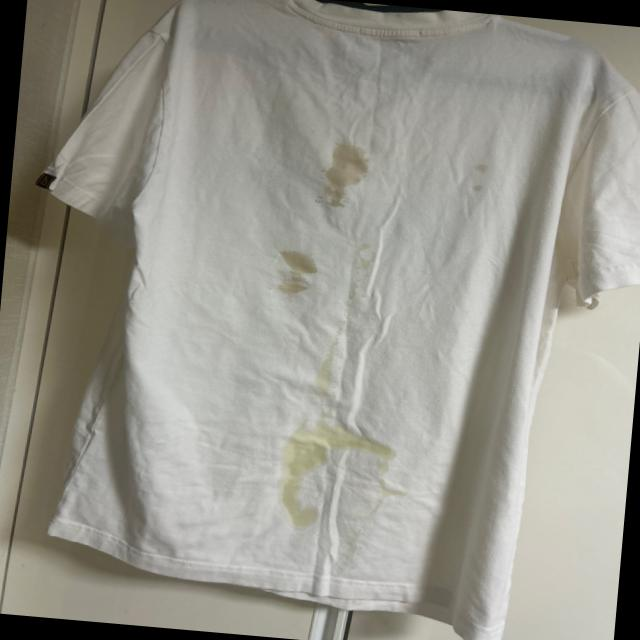stain: (272, 420, 400, 480), (266, 463, 348, 529), (308, 134, 376, 212), (300, 314, 346, 386), (268, 247, 320, 297), (456, 156, 493, 194)
